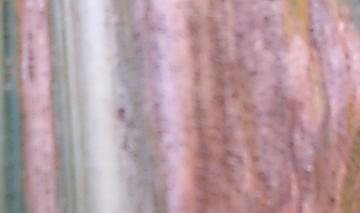tarspot: (114, 104, 126, 121), (24, 30, 35, 42), (343, 49, 351, 62), (38, 7, 46, 16), (345, 62, 351, 72), (329, 195, 335, 204), (262, 14, 269, 21), (308, 26, 313, 33)
